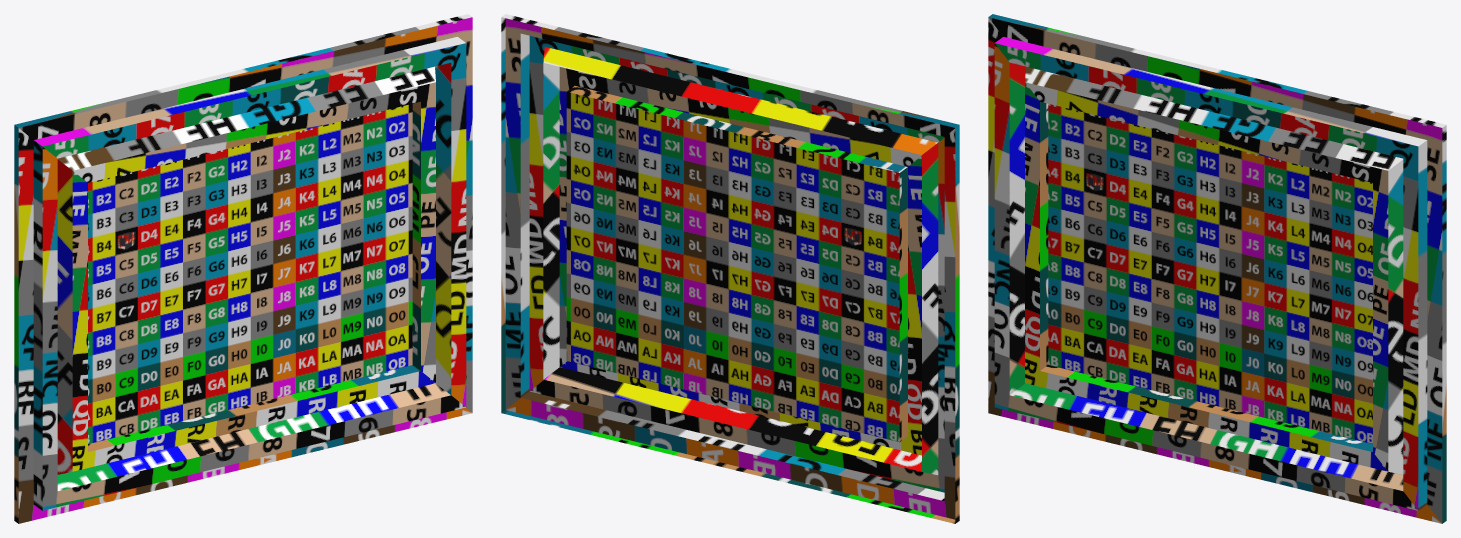
Rendered from pictureframe3.FBX.
The picture shows the model from 3 angles, left to right: view 1: azimuth 30°, elevation 25°; view 2: azimuth 150°, elevation 25°; view 3: azimuth 330°, elevation 25°; orthographic projection.
Visible parts, largest first — view 1: pictureframe3; view 2: pictureframe3; view 3: pictureframe3.
Part boxes in pixels (x1,y1,x2,y2): pictureframe3: [14, 14, 472, 523]; pictureframe3: [501, 14, 959, 523]; pictureframe3: [988, 14, 1446, 523].
Bounding box in the file's own units: 2.56 × 2.13 × 0.1279.
Materials: 1 (1 with a texture image).
